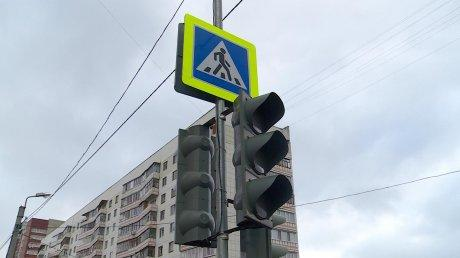off traffic light: (231, 91, 294, 229)
road_sign: (182, 14, 259, 103)
